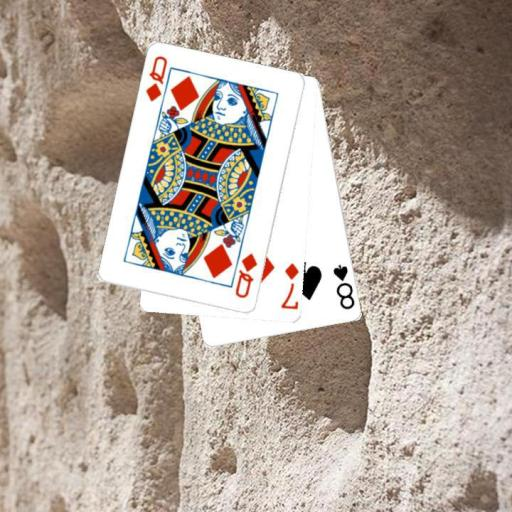7D: (278, 260, 300, 311)
8S: (330, 261, 356, 311)
QD: (142, 53, 169, 104), (232, 250, 259, 300)
